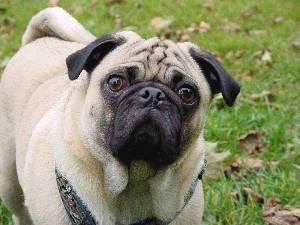dog-pug: (64, 30, 239, 162)
